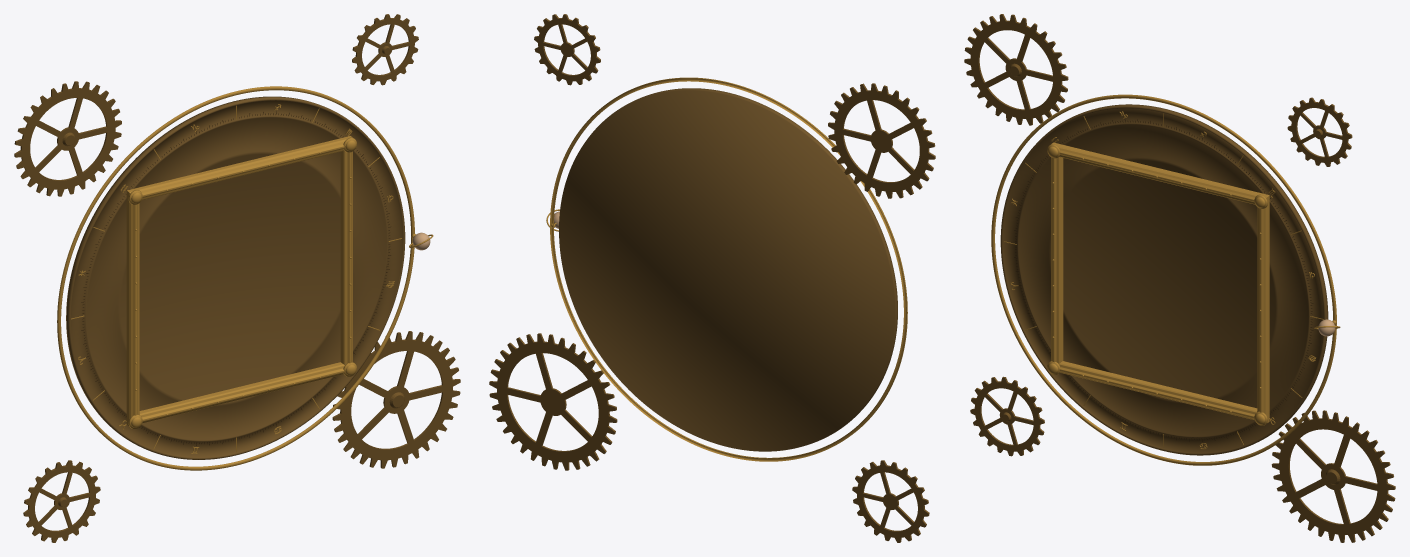
Rendered from scenery.glb.
3 views of the same model, side by side, from view 1: azimuth 30°, elevation 25°; view 2: azimuth 150°, elevation 25°; view 3: azimuth 330°, elevation 25° (orthographic). The views are drawn at different scales.
Visible parts, largest first — view 1: plate, frame, gear_1, gear_0, track, gear_3, gear_2, frame_bosses, degree_scale; view 2: plate, gear_1, gear_0, track, gear_3, gear_2; view 3: plate, frame, gear_1, gear_0, track, gear_3, gear_2, frame_bosses, degree_scale.
Part boxes in pixels (box(x1,y1,x2,y2)): plate: box(66, 96, 405, 459); frame: box(126, 136, 352, 426); gear_1: box(332, 331, 460, 468); gear_0: box(14, 81, 121, 196); track: box(57, 86, 414, 470); gear_3: box(23, 460, 100, 542); gear_2: box(352, 14, 418, 85); frame_bosses: box(128, 137, 356, 428); degree_scale: box(81, 111, 390, 445); plate: box(559, 88, 897, 451); gear_1: box(489, 333, 617, 470); gear_0: box(828, 83, 935, 198); track: box(550, 77, 907, 461); gear_3: box(852, 460, 929, 542); gear_2: box(534, 14, 600, 85); plate: box(1000, 104, 1328, 455); frame: box(1051, 142, 1269, 422); gear_1: box(1271, 410, 1395, 542); gear_0: box(964, 14, 1068, 125); track: box(991, 94, 1336, 465); gear_3: box(970, 376, 1044, 456); gear_2: box(1287, 97, 1352, 166); frame_bosses: box(1047, 144, 1267, 425); degree_scale: box(1014, 119, 1313, 441).
Bounding box in the file's own units: 17.5 × 17.4 × 1.52.
